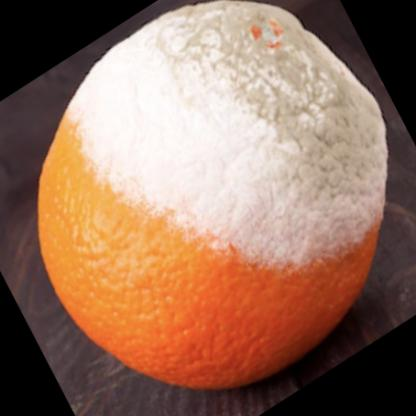rotten: (39, 1, 387, 388)
